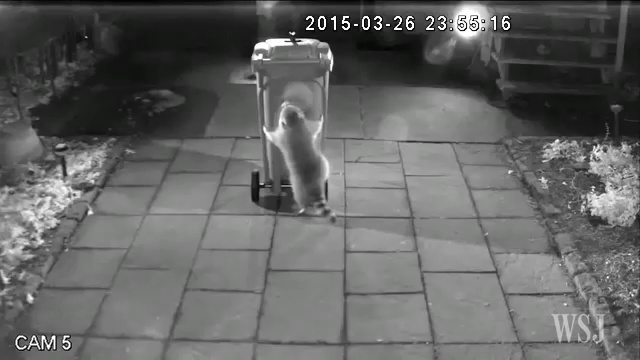raccoon: (261, 98, 343, 228)
